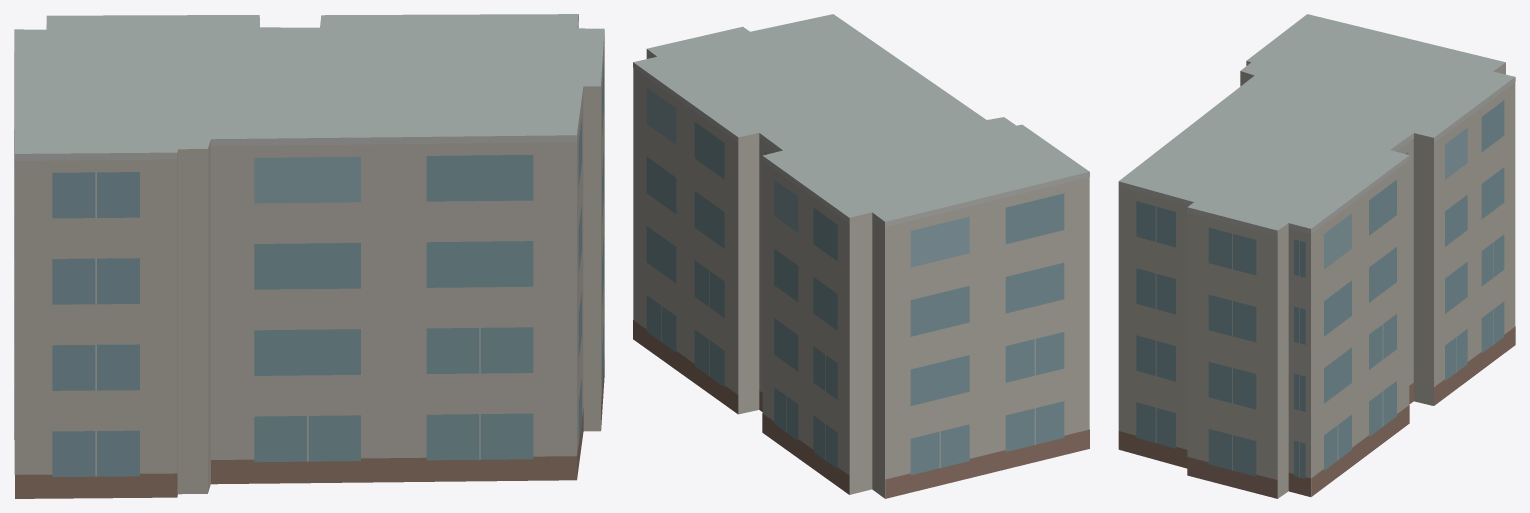
File: survey-upis-32657106.glb
3 views of the same model, side by side, from view 1: azimuth 30°, elevation 25°; view 2: azimuth 150°, elevation 25°; view 3: azimuth 270°, elevation 25° (orthographic). The views are drawn at different scales.
Parts seen in each view (by area): view 1: survey-upis-32657106.tmp; view 2: survey-upis-32657106.tmp; view 3: survey-upis-32657106.tmp.
Part boxes in pixels (x1=…): survey-upis-32657106.tmp: x1=14, y1=14, x2=604, y2=498; survey-upis-32657106.tmp: x1=633, y1=14, x2=1089, y2=498; survey-upis-32657106.tmp: x1=1118, y1=14, x2=1515, y2=498.
Bounding box in the file's own units: 21.48 × 12.4 × 16.63.
